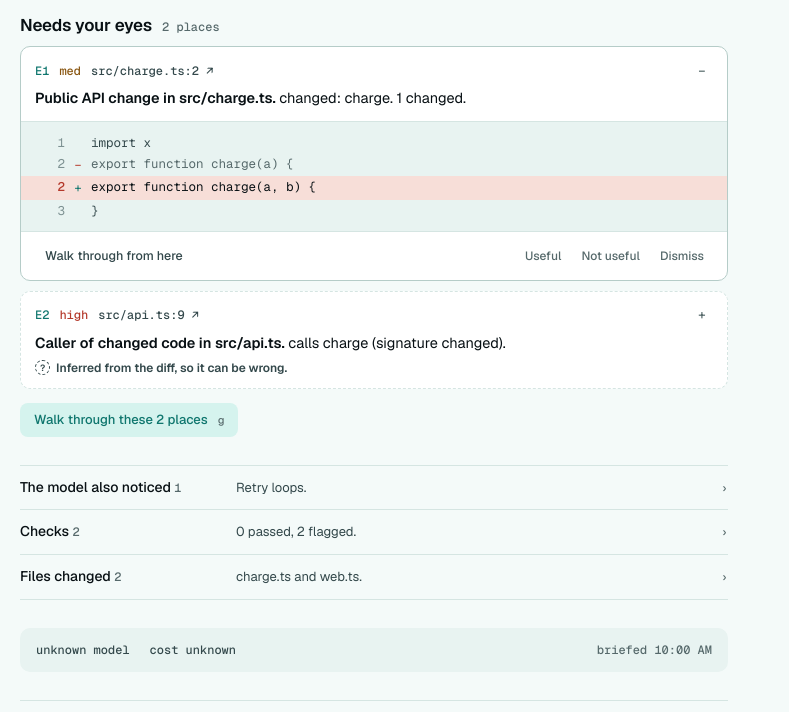
guided review › starts from its button, one step at a time, with the code at the place
Expected: the element named "src/charge.ts, lines 1 to 3" is shown, x1=21 y1=122 x2=727 y2=231
Click the button "Walk through these 2 places g" at [129, 420], box x1=20 y1=402 x2=238 y2=436
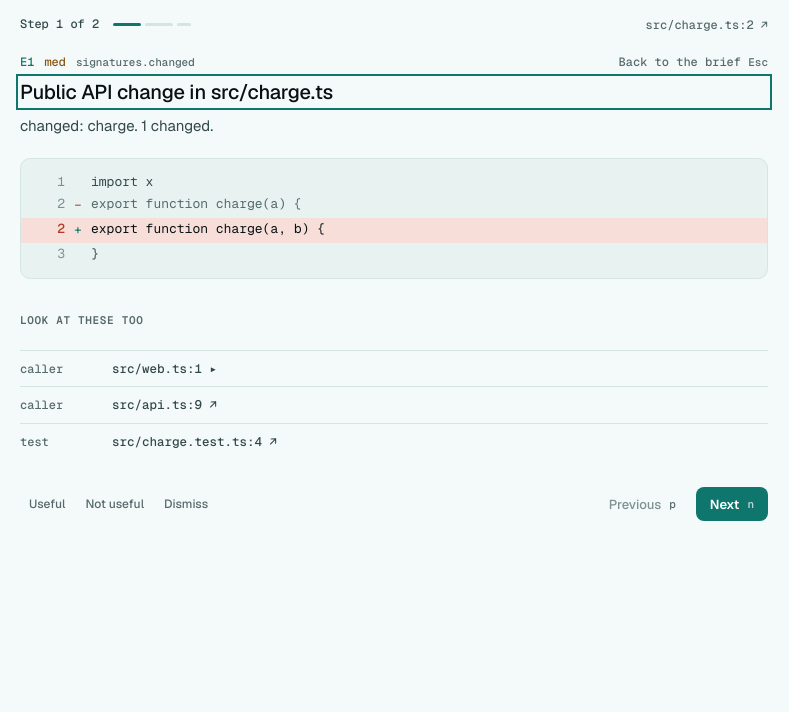
Expected: the text "Step 1 of 2" is shown, x1=20 y1=16 x2=99 y2=32
Expected: the text "signatures.changed" is shown, x1=76 y1=55 x2=195 y2=69
Expected: the button "Walk through these" is gone
